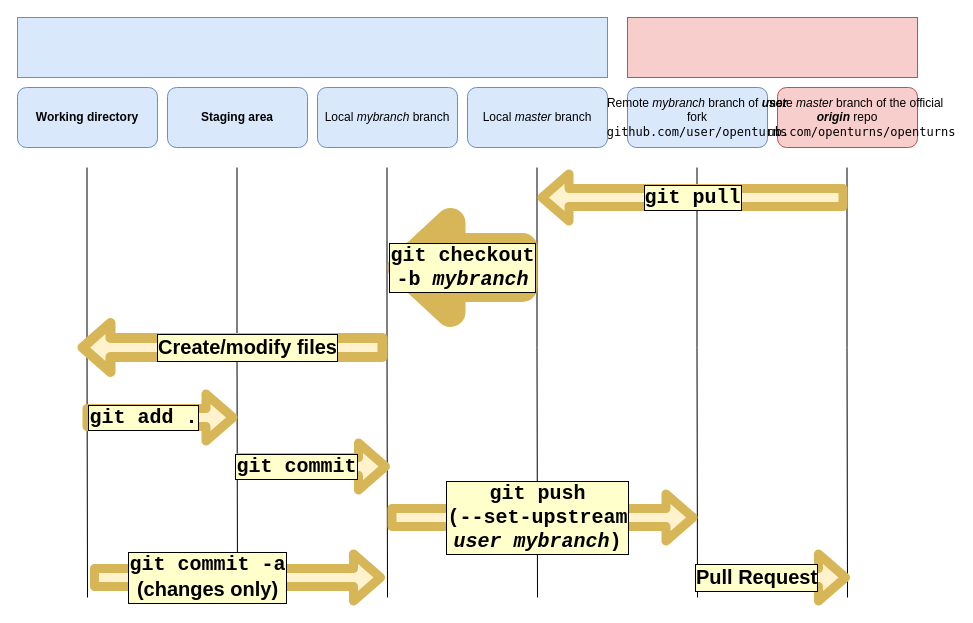
The diagram is 973 pixels wide and 623 high, and some of its shapes have lost their labels. Each missing label, with the centre of its shape:
"GitHub" belongs at pixel 772 47.
"Local computer" belongs at pixel 312 47.
